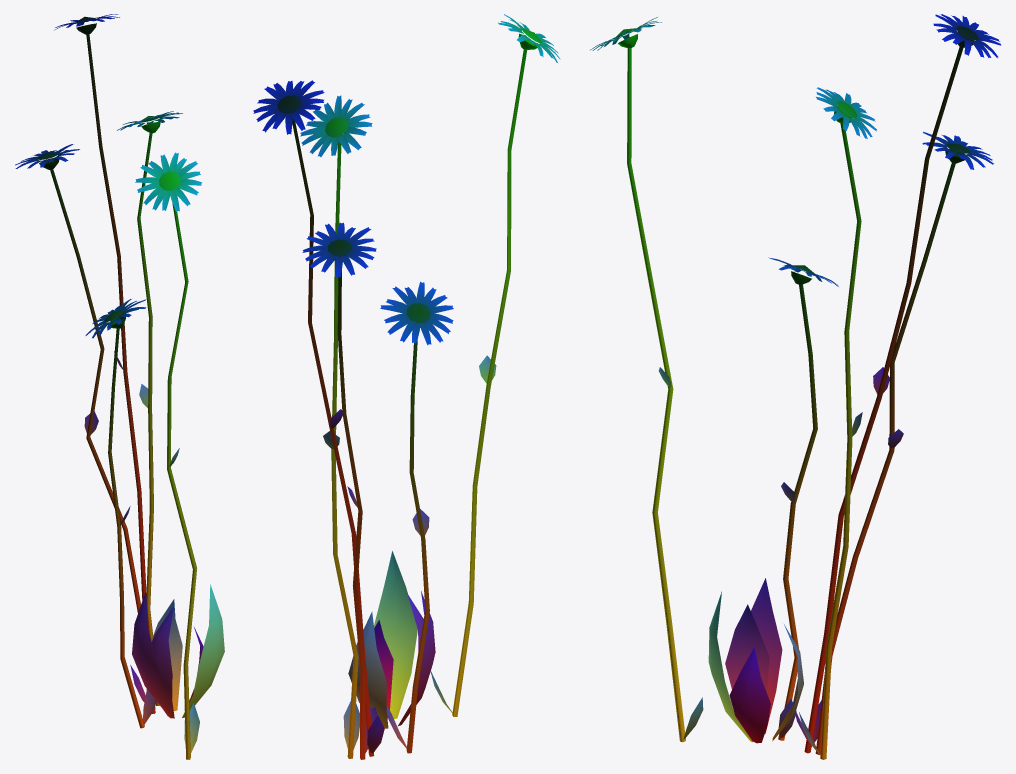
Rendered from SM_Flower_Daisy_B_LOD1.fbx.
The picture shows the model from 3 angles, left to right: view 1: azimuth 30°, elevation 25°; view 2: azimuth 150°, elevation 25°; view 3: azimuth 270°, elevation 25°; orthographic projection. The views are drawn at different scales.
Visible parts, largest first — view 1: SM_Flower_Daisy_B_LOD1; view 2: SM_Flower_Daisy_B_LOD1; view 3: SM_Flower_Daisy_B_LOD1.
Boxes of the visible parts, bbox=[...] form: SM_Flower_Daisy_B_LOD1: bbox=[15, 14, 224, 759]; SM_Flower_Daisy_B_LOD1: bbox=[253, 14, 560, 759]; SM_Flower_Daisy_B_LOD1: bbox=[590, 14, 1000, 759].
Bounding box in the file's own units: 0.1215 × 0.5702 × 0.2896.
